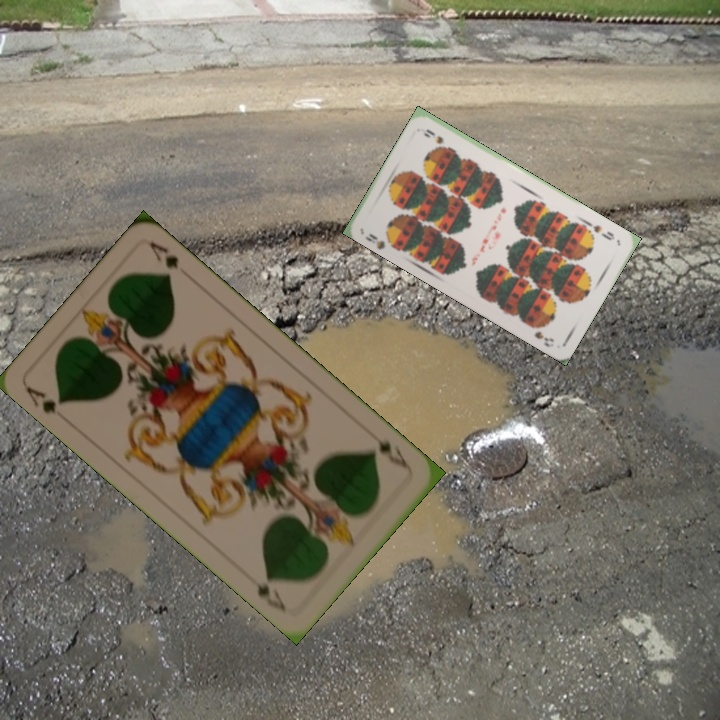GA: (365, 429, 414, 474), (22, 382, 67, 416)
S9: (361, 229, 398, 252), (589, 221, 617, 243)
